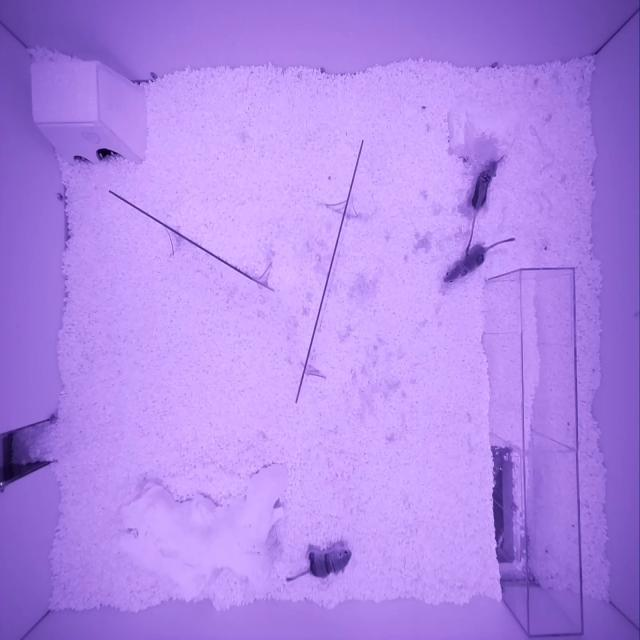pup_h_stripe: (307, 548, 352, 579)
pup_spotted: (443, 243, 486, 283)
pup_v_stripe: (467, 162, 498, 211)
